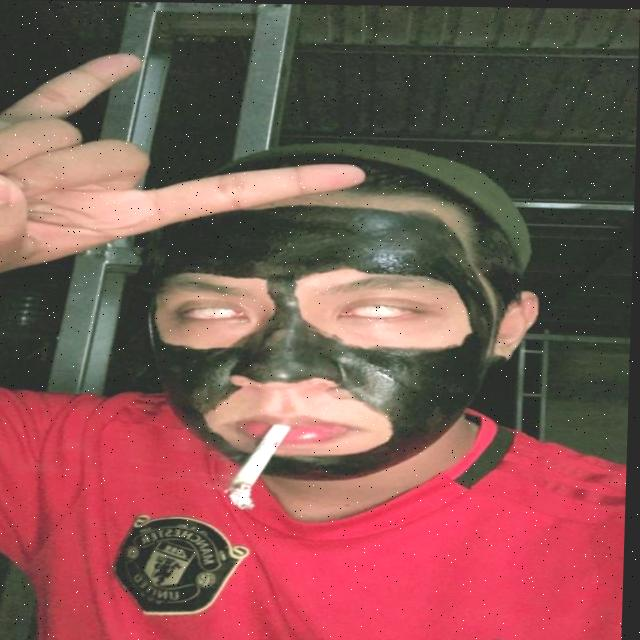cigarette: (229, 423, 291, 507)
